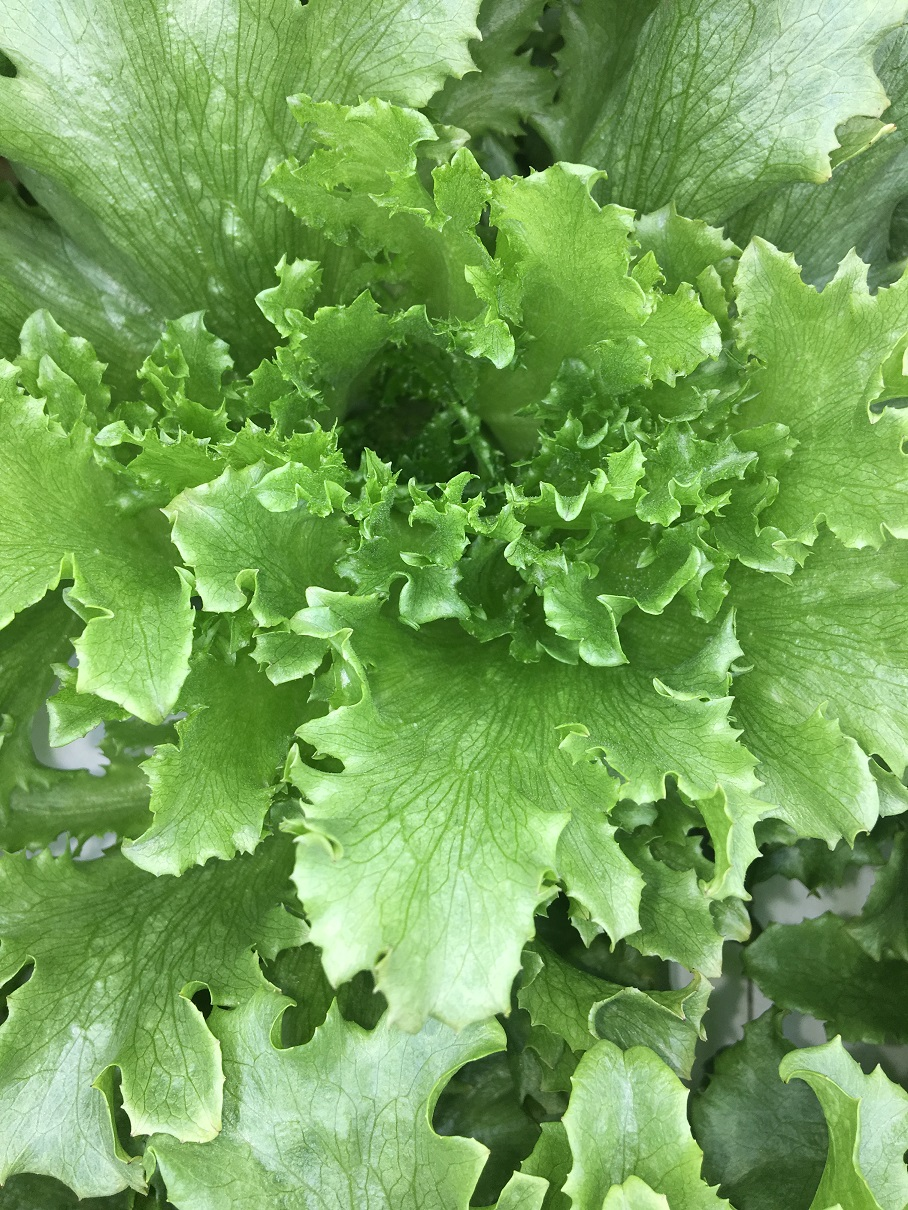tipburn: (660, 990, 727, 1070), (110, 1142, 153, 1186), (868, 108, 908, 154)
